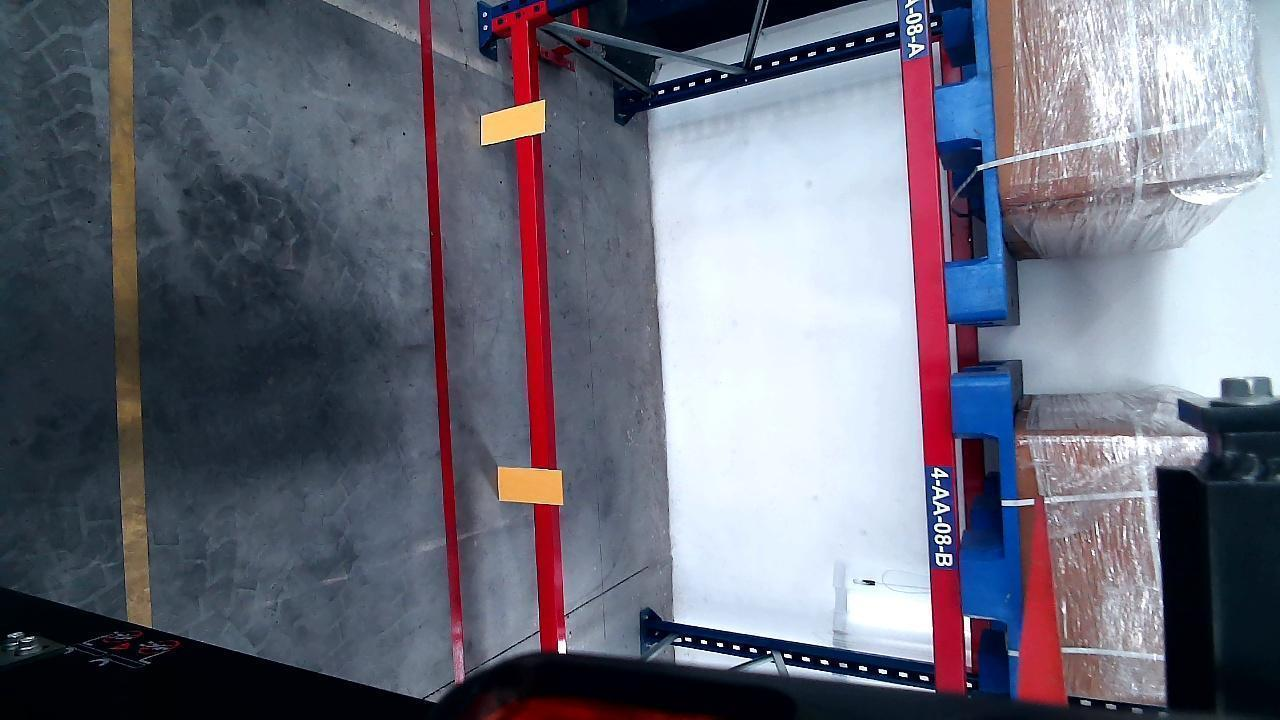red_line: (423, 3, 459, 674), (1018, 381, 1061, 677)
yellow_line: (107, 0, 151, 627)
